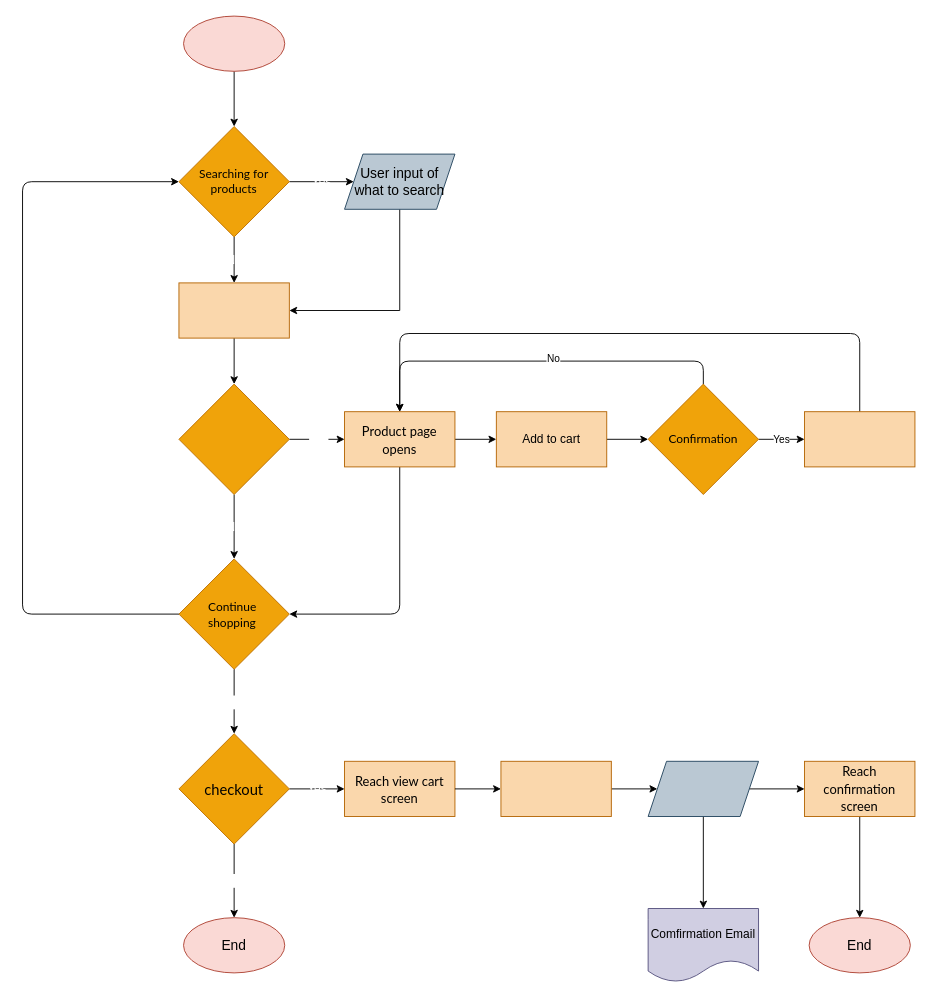
Image size: 931x998. Some labels were removed from this diagram. Each missing label, with the centre of its shape:
"Added to cart" belongs at point (859, 439).
"input payment information" belongs at point (703, 788).
"looking over the products" belongs at point (233, 310).
"Reach view payment screen" belongs at point (555, 788).
"Start" belongs at point (234, 43).
"viewing a specific product" belongs at point (233, 438).
